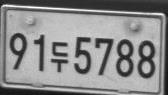1: (32, 34, 50, 72)
5: (72, 35, 92, 74)
7: (93, 36, 114, 76)
8: (136, 39, 156, 79), (115, 37, 134, 77)
9: (8, 31, 28, 70)
두: (50, 40, 69, 73)
